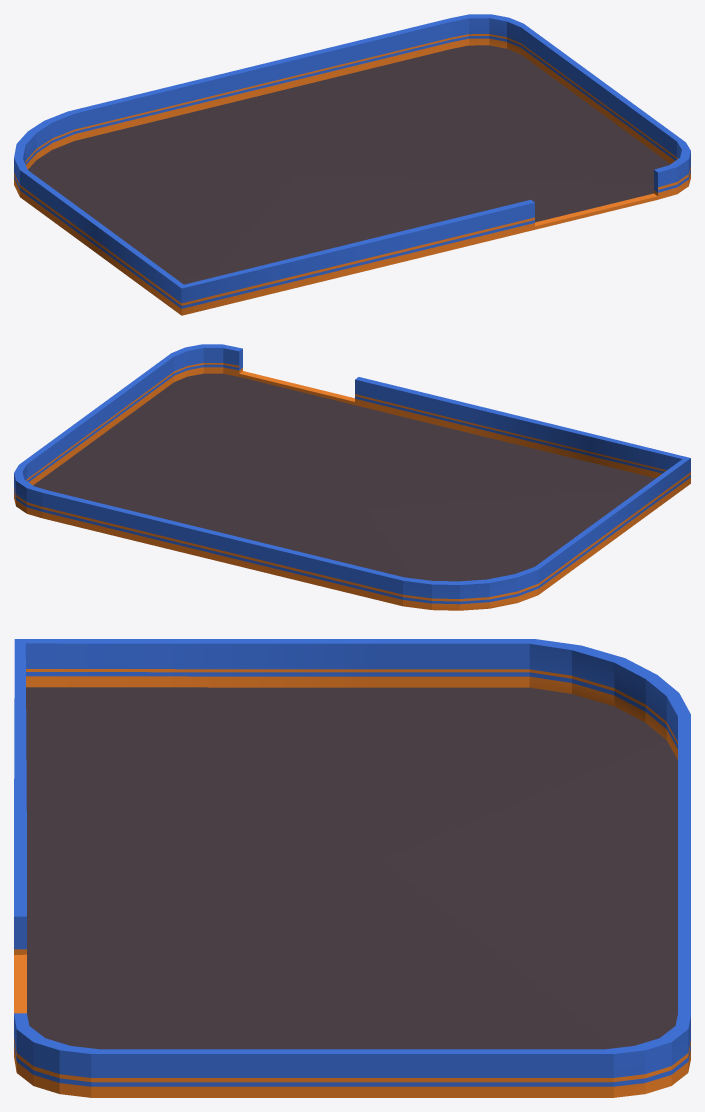
Rendered from WeiQiang2_Mo.fbx.
The picture shows the model from 3 angles, top to bottom: view 1: azimuth 30°, elevation 25°; view 2: azimuth 150°, elevation 25°; view 3: azimuth 270°, elevation 25°; orthographic projection. The views are drawn at different scales.
Parts seen in each view (by area): view 1: 对象010; view 2: 对象010; view 3: 对象010.
Part boxes in pixels (<box>): 对象010: <box>14,14,690,315</box>; 对象010: <box>14,344,690,610</box>; 对象010: <box>14,639,690,1097</box>.
Bounding box in the file's own units: 4732 × 233 × 3262.
1 material, 1 textured.
